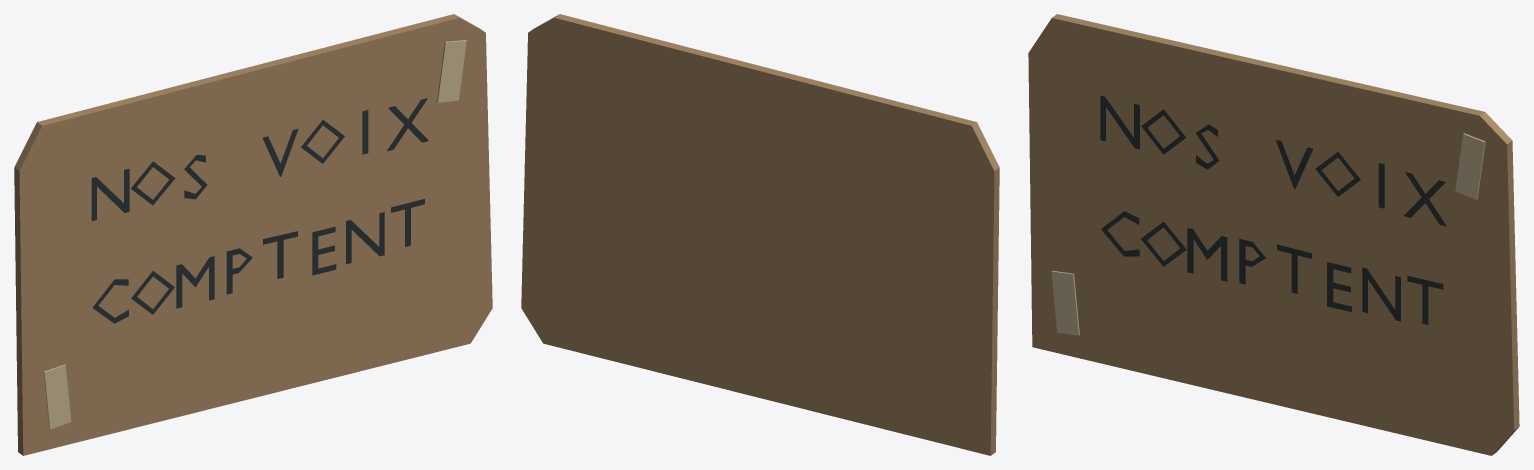
The model's file is carton-nos-voix.glb.
The picture shows the model from 3 angles, left to right: view 1: azimuth 30°, elevation 25°; view 2: azimuth 150°, elevation 25°; view 3: azimuth 330°, elevation 25°; orthographic projection. The views are drawn at different scales.
Parts seen in each view (by area): view 1: carton-nos-voix; view 2: carton-nos-voix; view 3: carton-nos-voix.
Part boxes in pixels (x1=…): carton-nos-voix: x1=14, y1=14, x2=492, y2=455; carton-nos-voix: x1=521, y1=14, x2=999, y2=455; carton-nos-voix: x1=1028, y1=14, x2=1519, y2=455.
Bounding box in the file's own units: 0.624 × 0.418 × 0.015.
